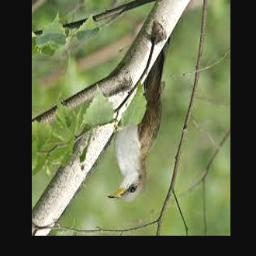Cuckoo: (108, 36, 171, 202)
